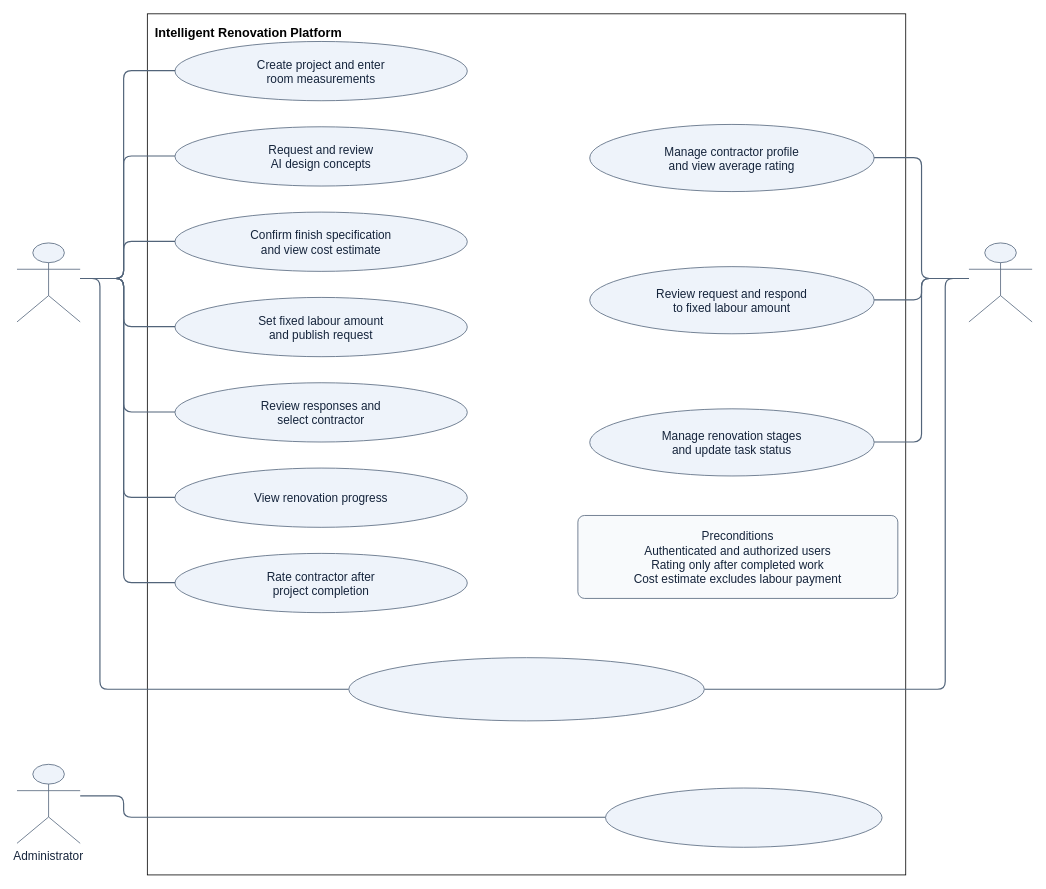
This 1046x889 diagram has some shape labels left out. Here are the shapes that lost their labels. From the top down, the box of each, then its label:
(16, 242, 80, 322): Homeowner
(968, 242, 1032, 322): Contractor
(348, 657, 704, 721): Confirm renovation agreement with fixed labour payment
(605, 787, 882, 847): Manage users and marketplace records
